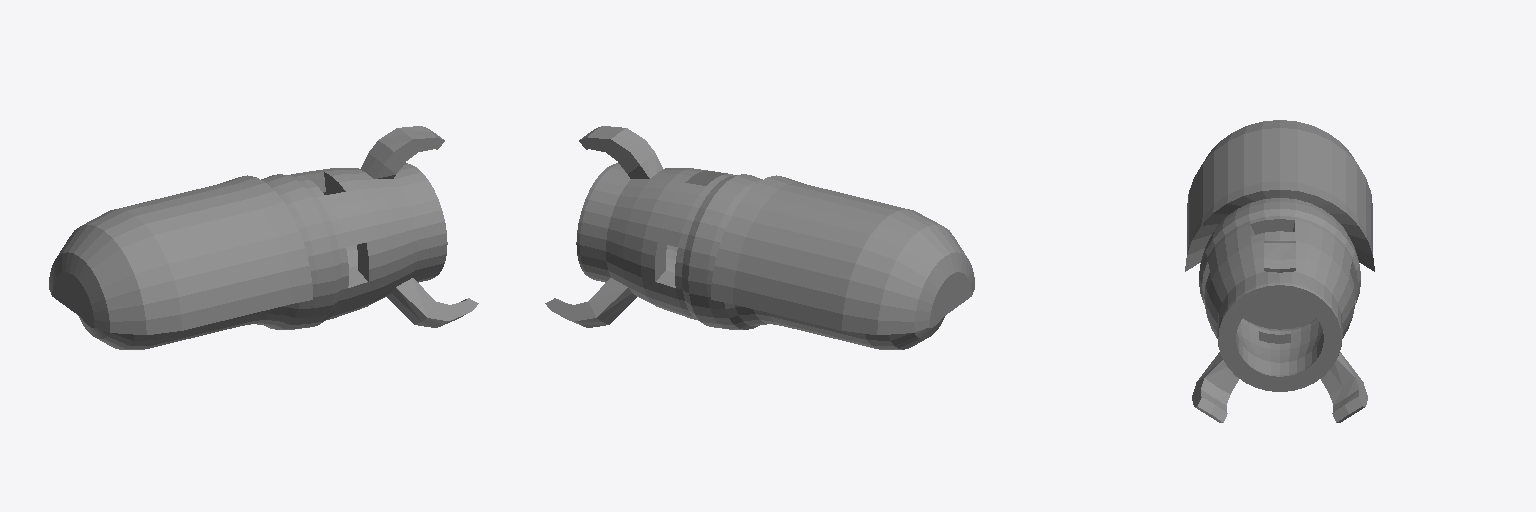
File: combustiblelemonlauncher.obj
The picture shows the model from 3 angles: view 1: azimuth 30°, elevation 25°; view 2: azimuth 150°, elevation 25°; view 3: azimuth 270°, elevation 25°; orthographic projection.
Visible parts, largest first — view 1: combustiblelemonlauncher; view 2: combustiblelemonlauncher; view 3: combustiblelemonlauncher.
Boxes of the visible parts, <box> form: combustiblelemonlauncher: <box>49,126,478,349</box>; combustiblelemonlauncher: <box>545,126,974,349</box>; combustiblelemonlauncher: <box>1185,120,1374,422</box>.
Size of the model in its own units: 5.18 by 2.33 by 2.34.